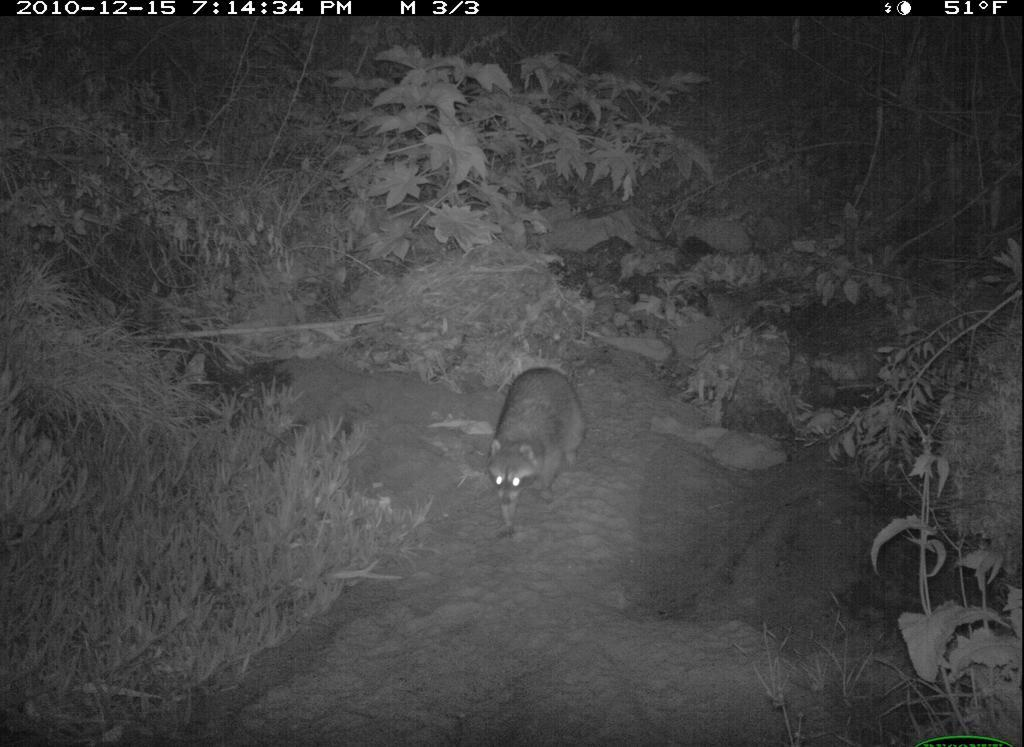raccoon: (464, 347, 603, 551)
